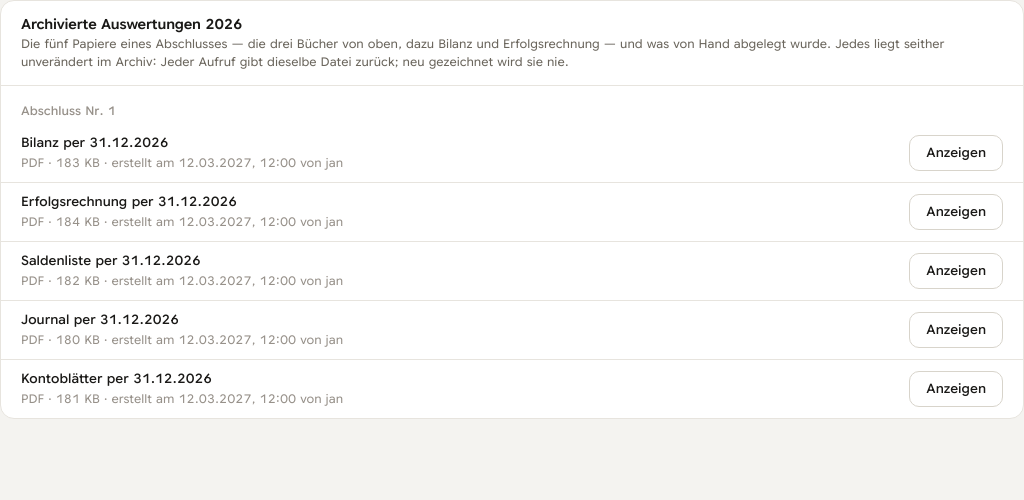
Test case: ReportArchivePanel › reportArchivePanelKeepsTheListWhenOpeningFailsTest
Click the button "Anzeigen" in the row of "Journal per 31.12.2026" at (956, 330), box [909, 312, 1003, 348]
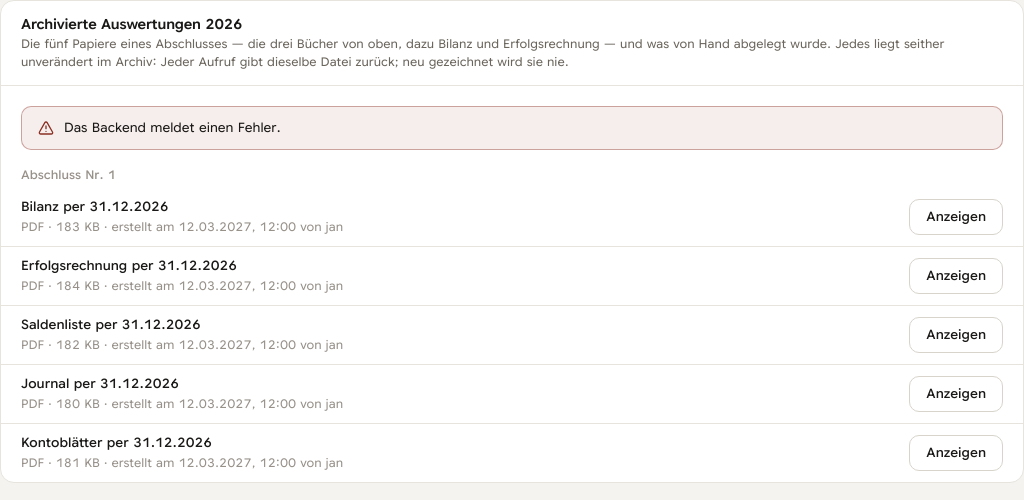
Expected: the message "Das Backend meldet einen Fehler." is shown, [21, 106, 1003, 150]
